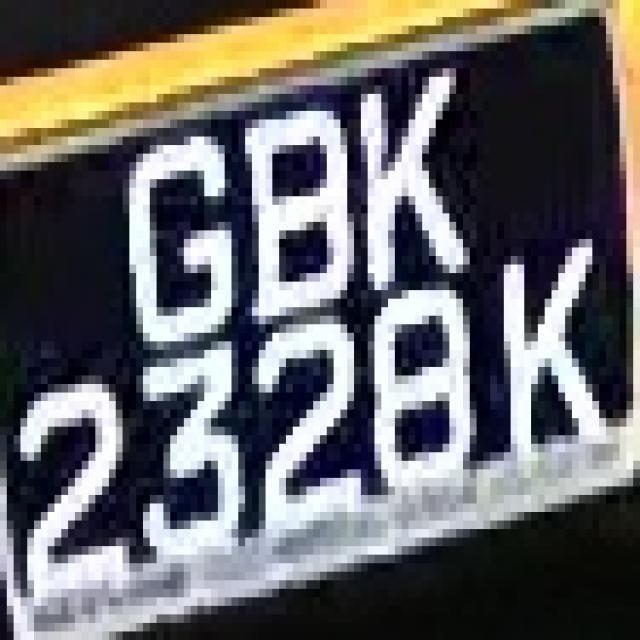2: (238, 299, 395, 529), (14, 350, 129, 597)
3: (136, 350, 252, 572)
8: (354, 282, 477, 504)
B: (225, 102, 368, 342)
G: (102, 111, 238, 367)
K: (340, 60, 490, 273), (490, 239, 613, 478)
